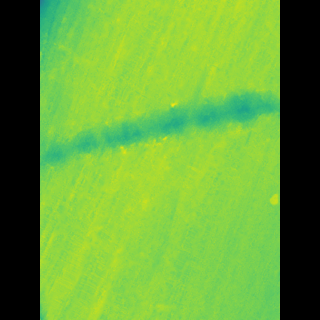Loch: (77, 80, 248, 179)
